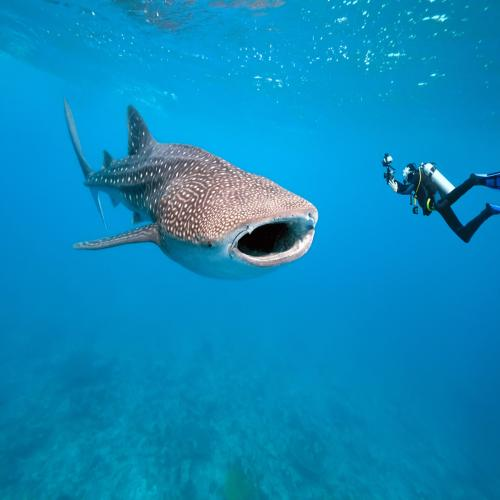shark-endangered: (63, 98, 320, 282)
